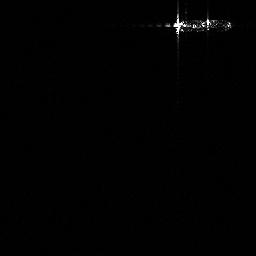ship: (162, 10, 235, 41)
